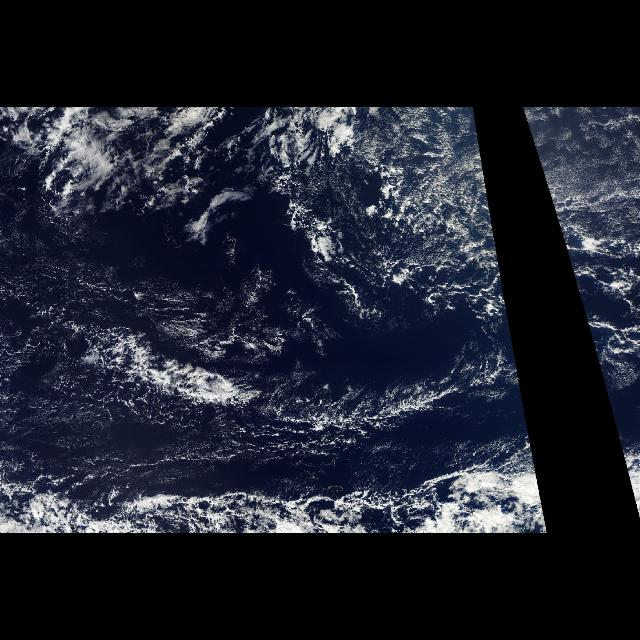Fish: (21, 232, 515, 476)
Sugar: (522, 108, 634, 224), (406, 108, 494, 224)
